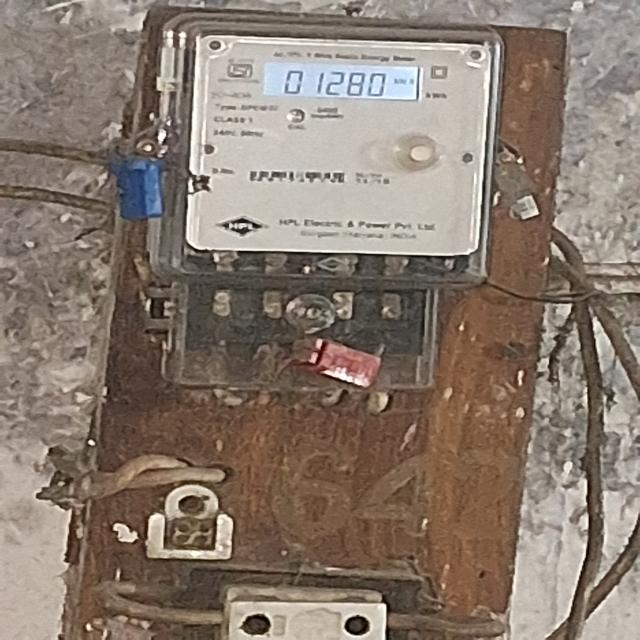display: (268, 60, 422, 106)
